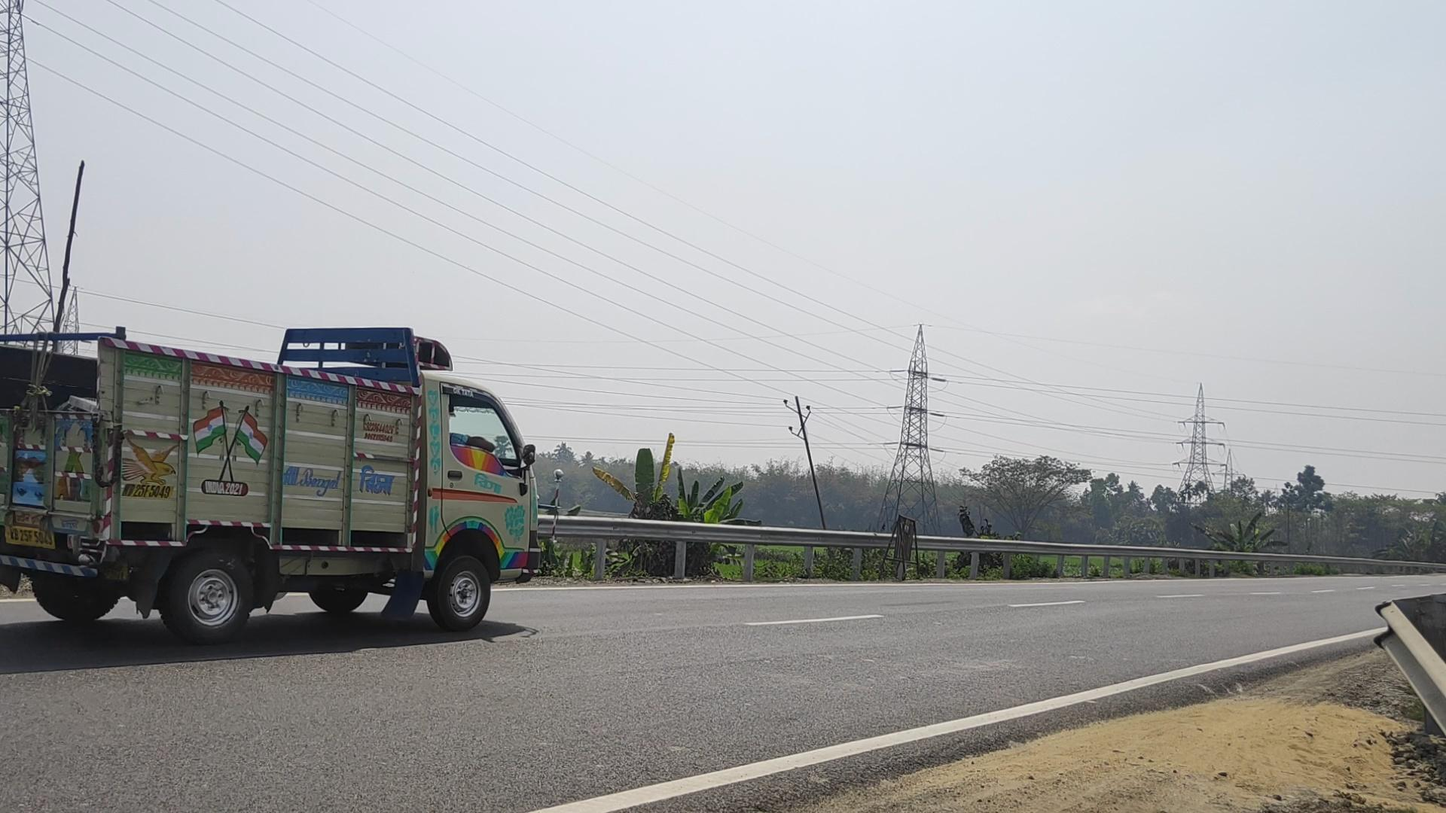van: (1, 326, 563, 644)
